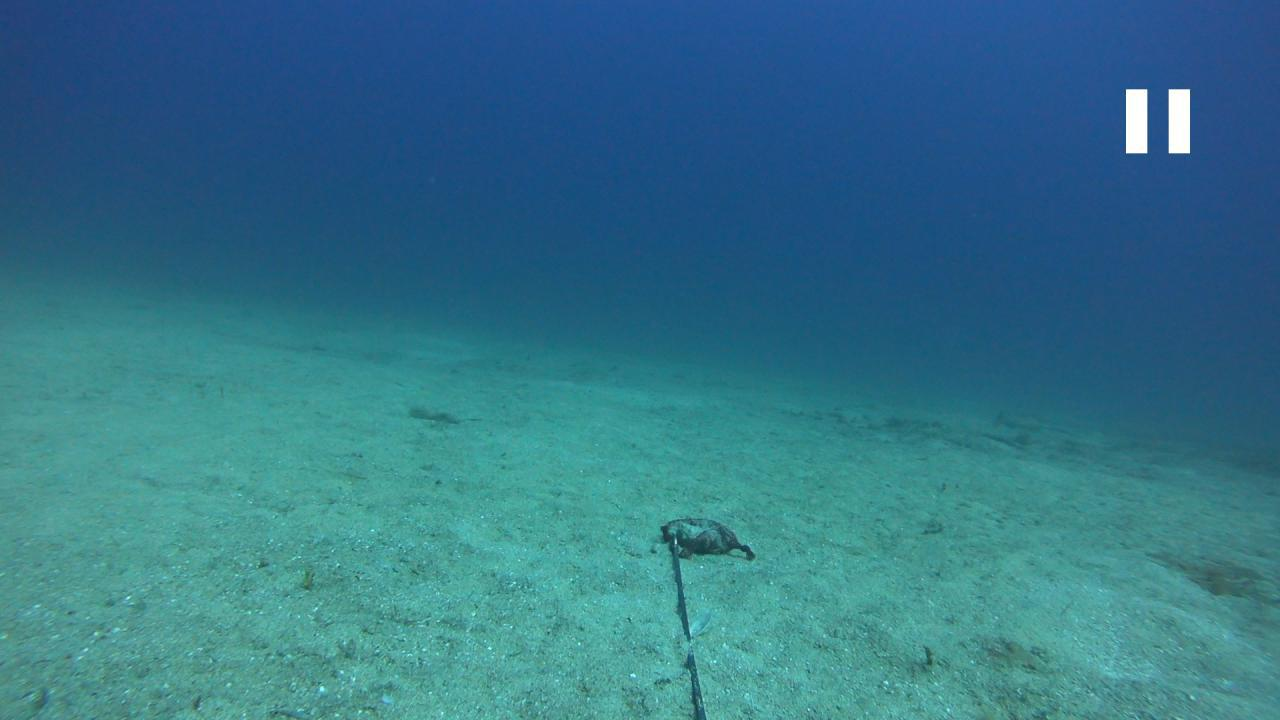dasyatis: (991, 409, 1082, 437)
